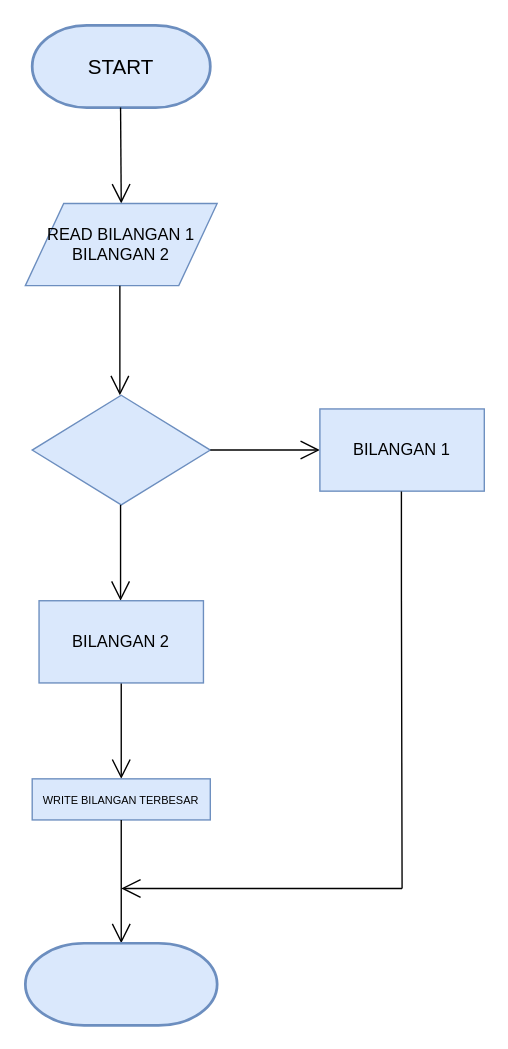
Image size: 508x1049. Some labels were removed from this diagram. The shapes that lost their labels are listed below. From the top down, each one's centre as x and y in pixels, then its label:
At (120,449): "BILANGAN 1> BILANGAN 2".
At (120,983): "END".
